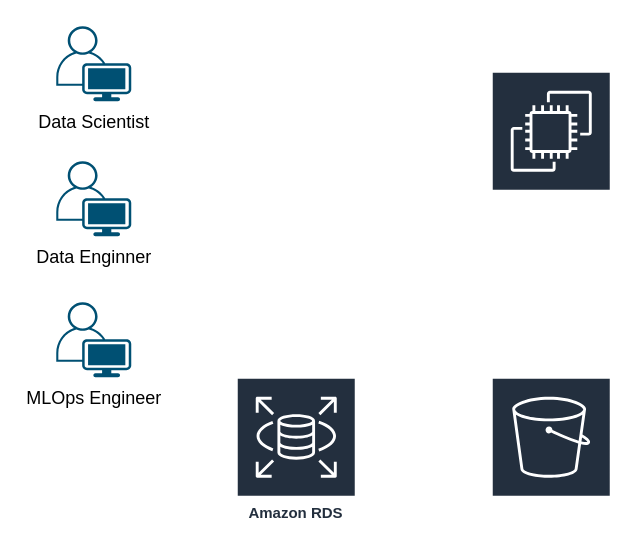
Image size: 638x554. Some labels were removed from this diagram. The centre of each missing label's shape, as x and y in pixels:
Amazon EC2: the point at 550,145
Amazon S3: the point at 550,451
